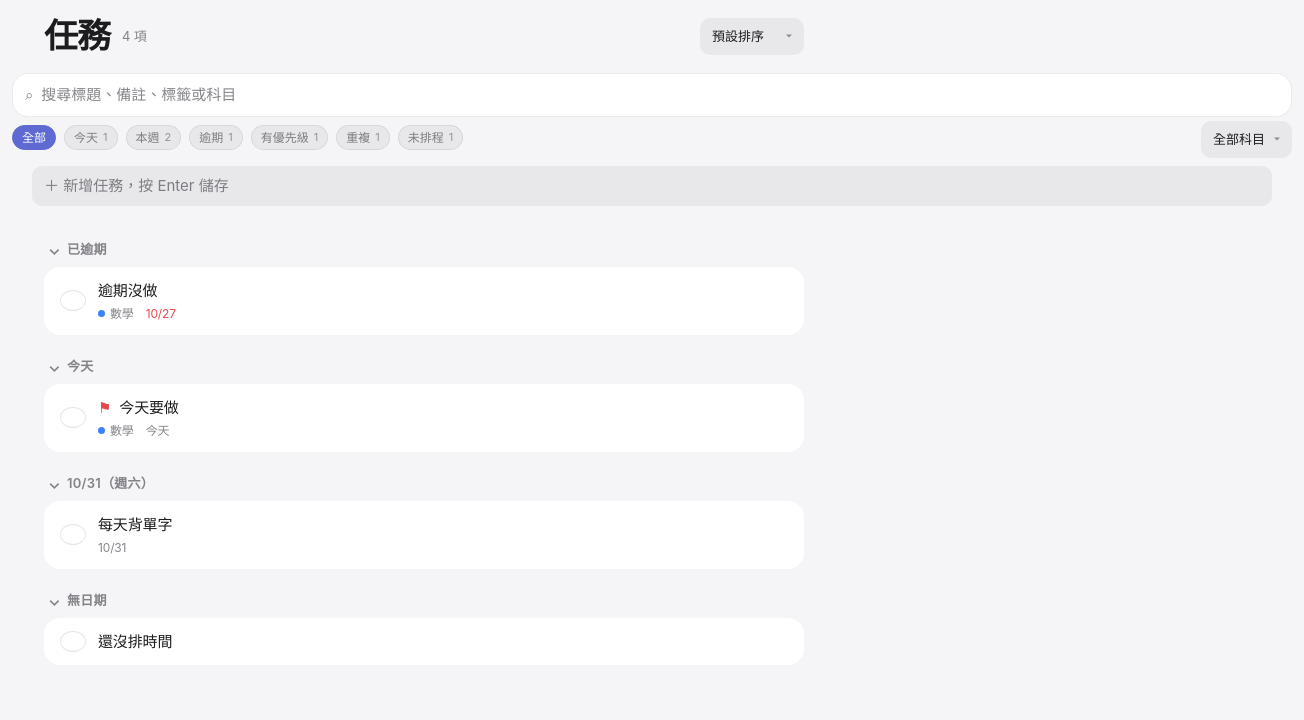
Test: §E 任務第一層 filters › 可一鍵清除疊加的搜尋、日期與科目篩選
Type "今天" into the field named "搜尋目前任務" at (660,95), box [41,74,1279,116]
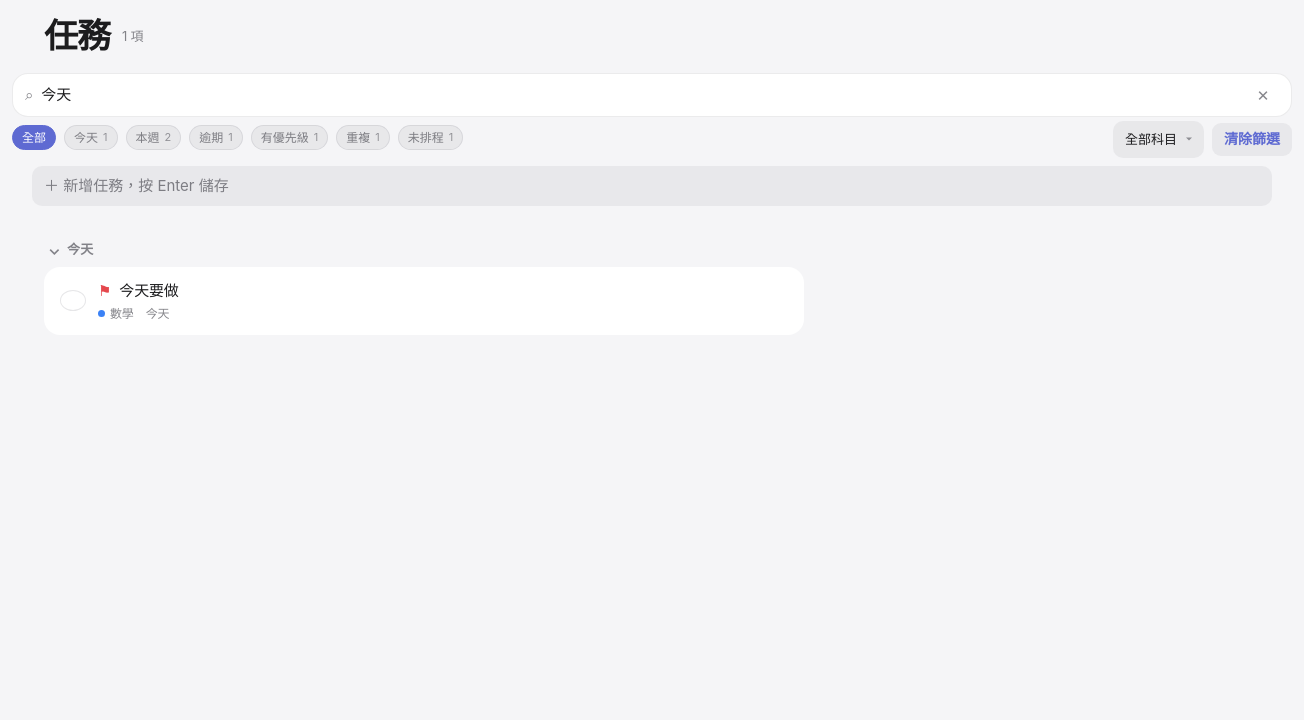
Click the tab "今天 1" at (91,138), box [64,125,118,150]
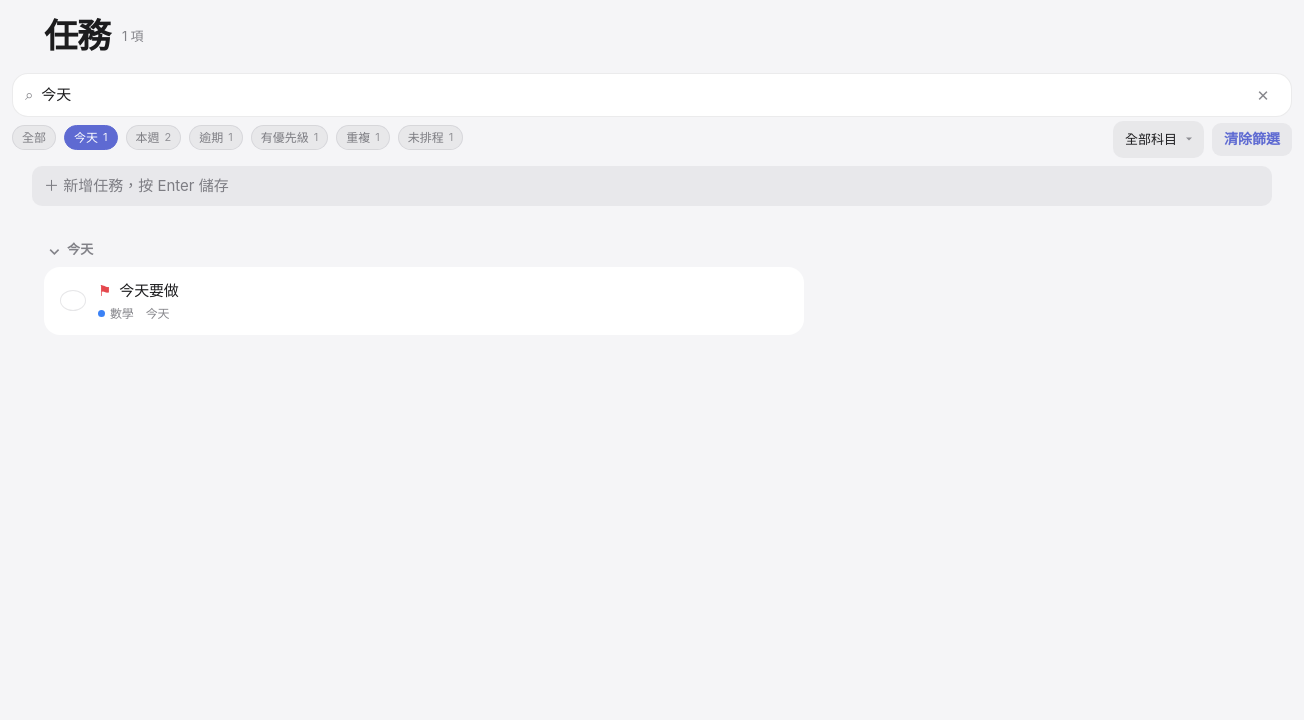
Select "數學" in the dropdown named "依科目篩選" at (1158,140), box [1113,121,1204,158]
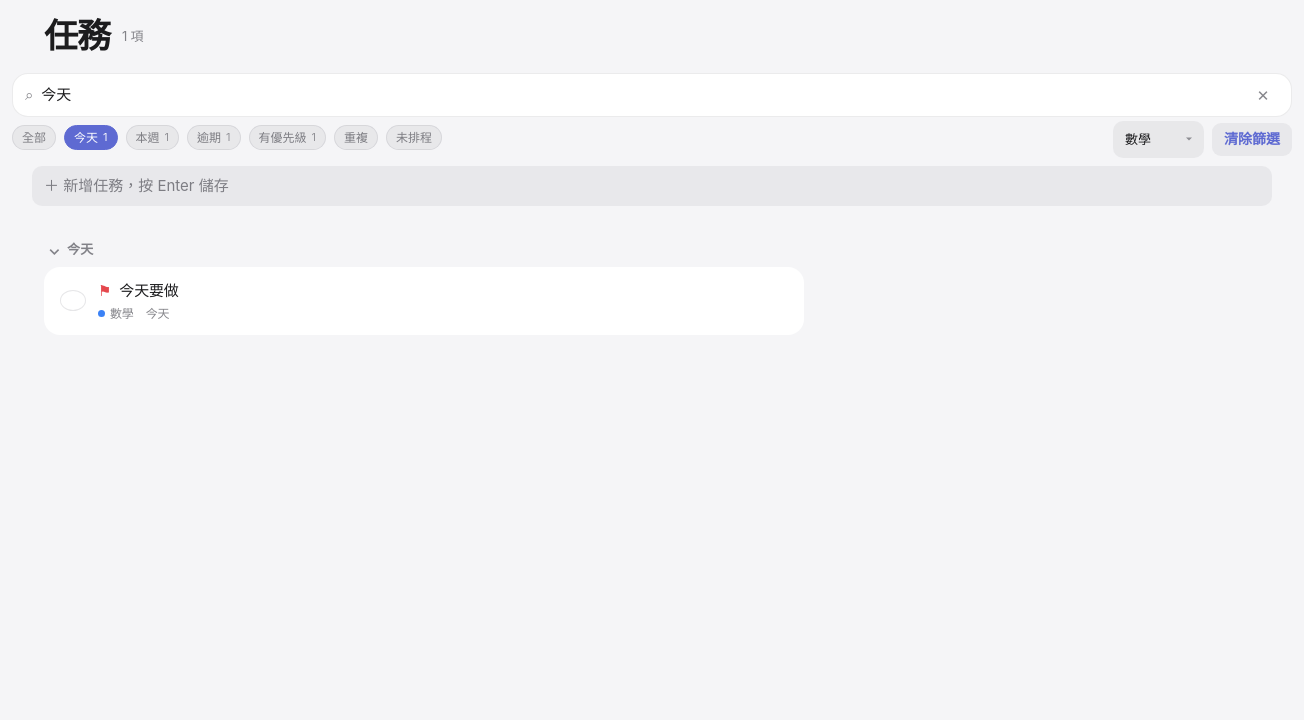
Click the button "清除篩選" at (1252,139), box [1212,123,1292,156]
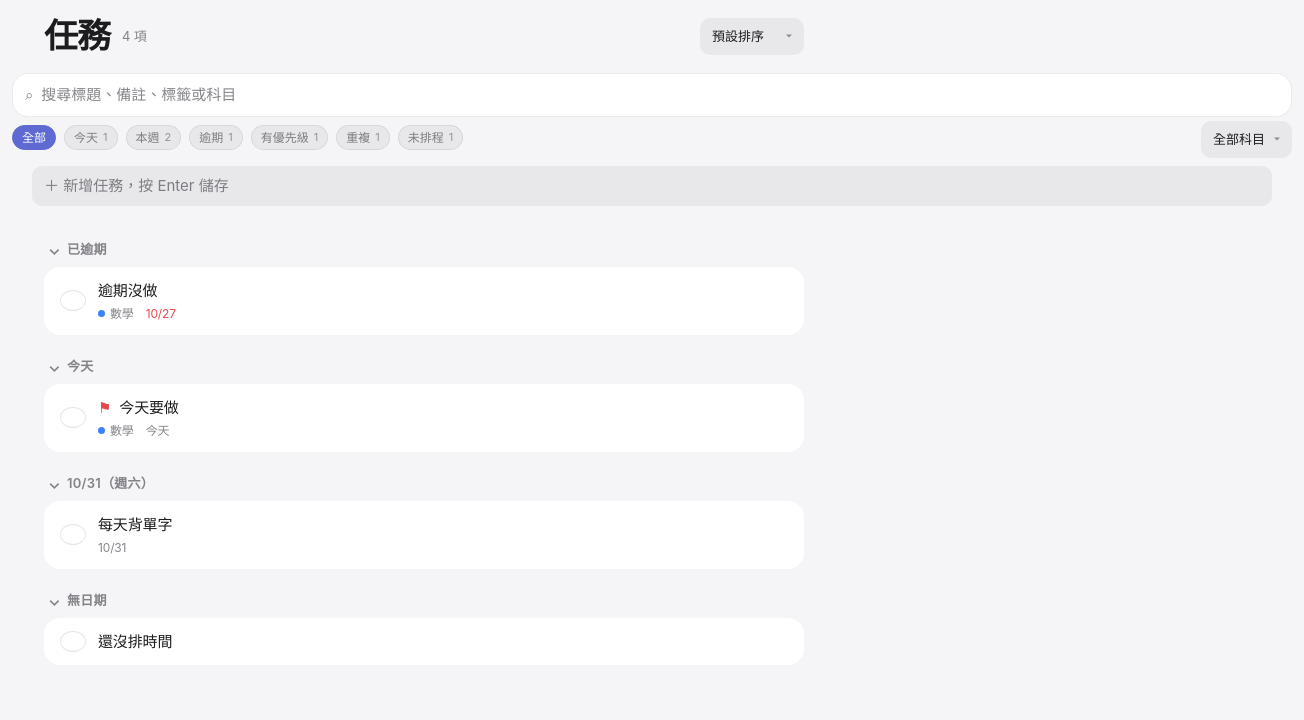
Result: the field named "搜尋目前任務" is empty at [41,74,1279,116]
Result: the text "逾期沒做" is shown at [98,281,157,300]
Result: the text "還沒排時間" is shown at [98,632,172,651]
